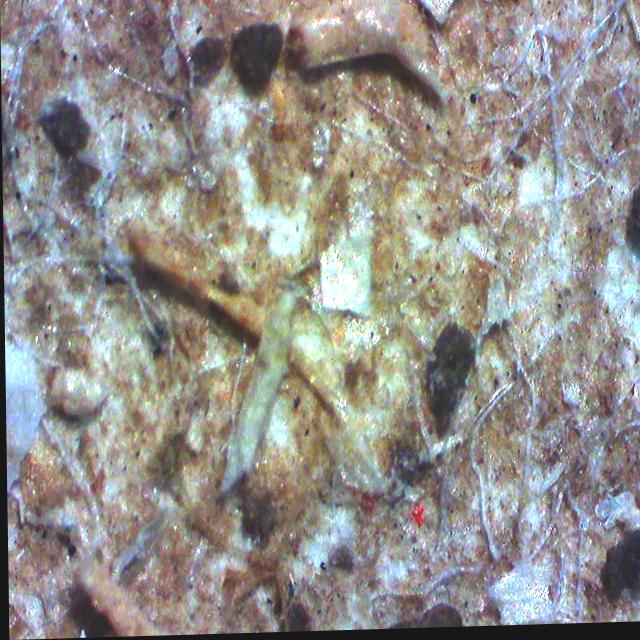microplastic: (315, 148, 378, 323)
